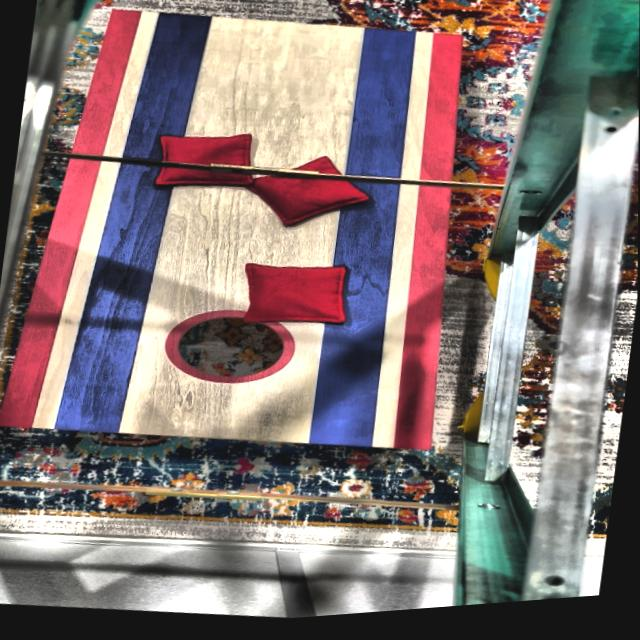board: (60, 0, 460, 471)
hole: (159, 301, 299, 397)
red-bean-bag: (238, 147, 377, 244), (241, 259, 353, 335), (156, 126, 257, 195)
